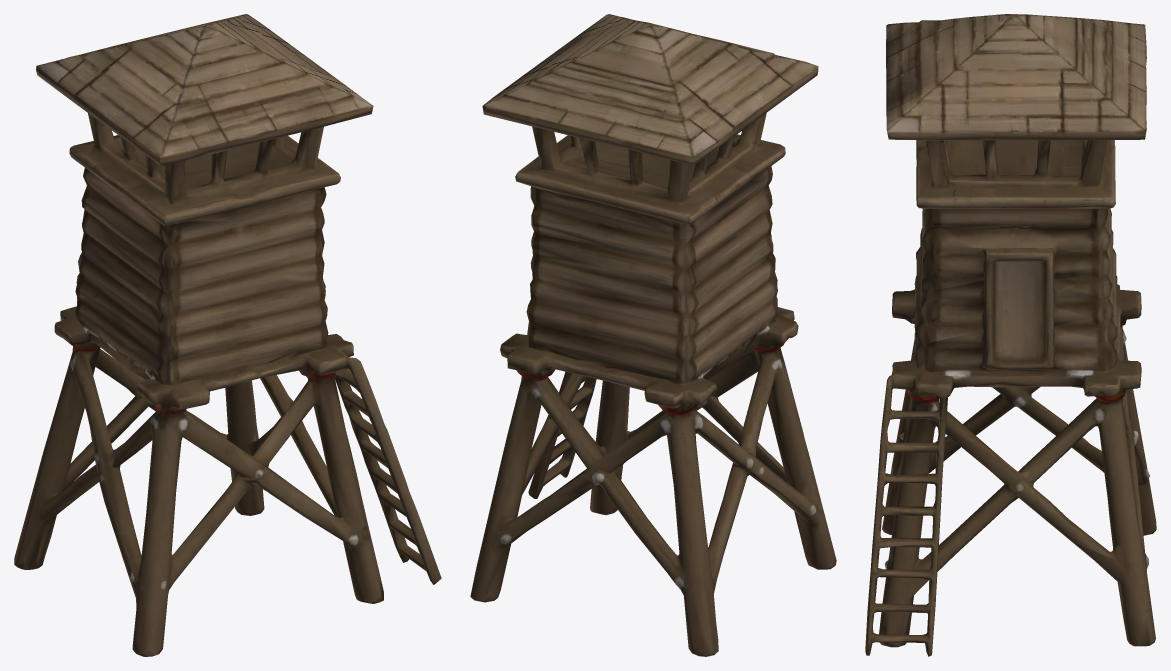
File: lookout.glb
3 views of the same model, side by side, from view 1: azimuth 30°, elevation 25°; view 2: azimuth 150°, elevation 25°; view 3: azimuth 270°, elevation 25° (orthographic). The views are drawn at different scales.
Bounding box in the file's own units: 0.5499 × 1 × 0.4606.
1 material, 1 textured.
